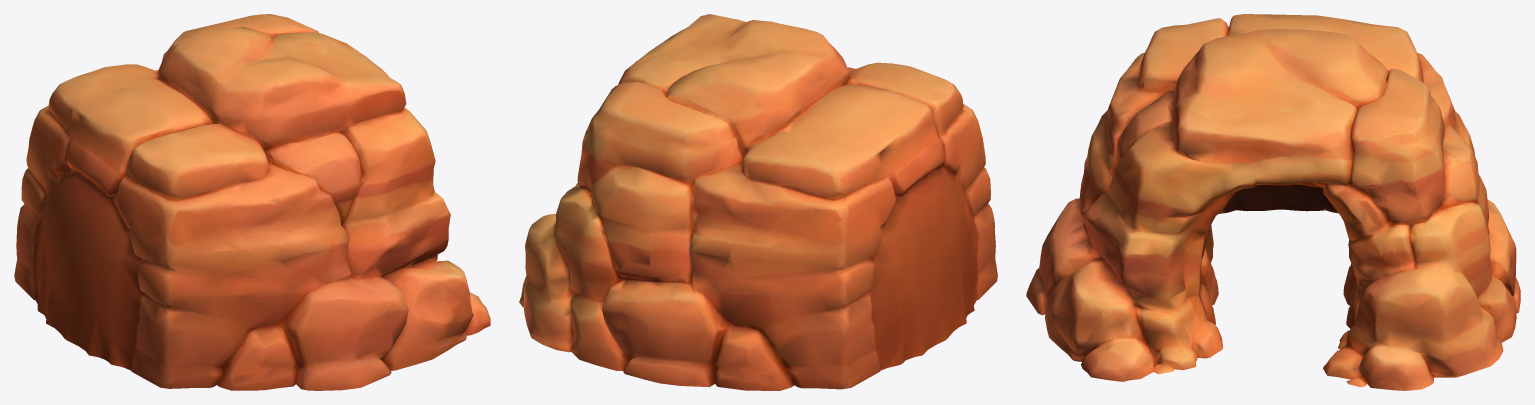
Rendered from gorge-tunnel.glb.
The picture shows the model from 3 angles, left to right: view 1: azimuth 30°, elevation 25°; view 2: azimuth 150°, elevation 25°; view 3: azimuth 270°, elevation 25°; orthographic projection. The views are drawn at different scales.
Parts seen in each view (by area): view 1: GorgeTunnel; view 2: GorgeTunnel; view 3: GorgeTunnel.
Boxes of the visible parts, box(x1,y1,x2,y2) form: GorgeTunnel: box(14, 14, 490, 390); GorgeTunnel: box(519, 14, 997, 390); GorgeTunnel: box(1026, 14, 1520, 390).
Bounding box in the file's own units: 7.84 × 5.05 × 9.
Materials: 1 (1 with a texture image).
